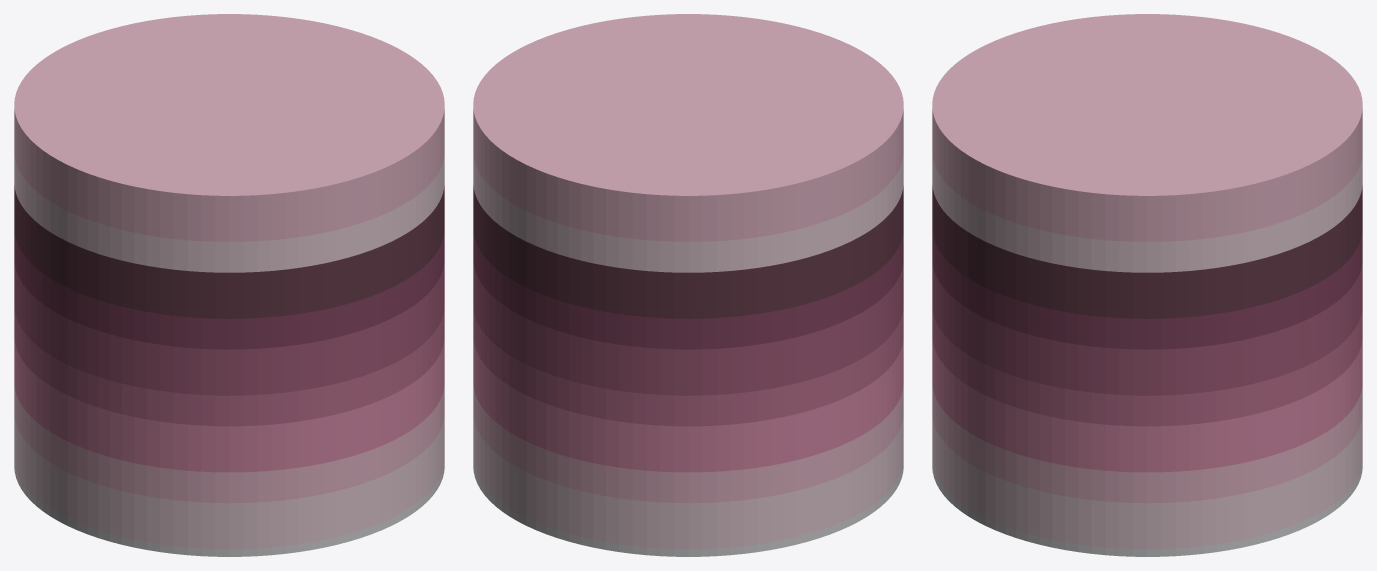
Rendered from cake_10in_layers5.glb.
The picture shows the model from 3 angles, left to right: view 1: azimuth 30°, elevation 25°; view 2: azimuth 150°, elevation 25°; view 3: azimuth 270°, elevation 25°; orthographic projection.
Parts seen in each view (by area): view 1: geometry_8, geometry_6, geometry_4, geometry_0, geometry_2, geometry_5, geometry_7, geometry_3, geometry_1, geometry_9; view 2: geometry_8, geometry_6, geometry_4, geometry_0, geometry_2, geometry_5, geometry_7, geometry_3, geometry_1, geometry_9; view 3: geometry_8, geometry_6, geometry_4, geometry_0, geometry_2, geometry_5, geometry_7, geometry_3, geometry_1, geometry_9.
Boxes of the visible parts, x1=… form: geometry_8: x1=14, y1=14, x2=444, y2=241; geometry_6: x1=14, y1=185, x2=444, y2=318; geometry_4: x1=14, y1=262, x2=444, y2=395; geometry_0: x1=14, y1=416, x2=444, y2=549; geometry_2: x1=14, y1=339, x2=444, y2=472; geometry_5: x1=14, y1=232, x2=444, y2=349; geometry_7: x1=14, y1=155, x2=444, y2=272; geometry_3: x1=14, y1=308, x2=444, y2=426; geometry_1: x1=14, y1=385, x2=444, y2=503; geometry_9: x1=14, y1=462, x2=444, y2=556; geometry_8: x1=473, y1=14, x2=903, y2=241; geometry_6: x1=473, y1=185, x2=903, y2=318; geometry_4: x1=473, y1=262, x2=903, y2=395; geometry_0: x1=473, y1=416, x2=903, y2=549; geometry_2: x1=473, y1=339, x2=903, y2=472; geometry_5: x1=473, y1=232, x2=903, y2=349; geometry_7: x1=473, y1=155, x2=903, y2=272; geometry_3: x1=473, y1=308, x2=903, y2=426; geometry_1: x1=473, y1=385, x2=903, y2=503; geometry_9: x1=473, y1=462, x2=903, y2=556; geometry_8: x1=932, y1=14, x2=1362, y2=241; geometry_6: x1=932, y1=185, x2=1362, y2=318; geometry_4: x1=932, y1=262, x2=1362, y2=395; geometry_0: x1=932, y1=416, x2=1362, y2=549; geometry_2: x1=932, y1=339, x2=1362, y2=472; geometry_5: x1=932, y1=232, x2=1362, y2=349; geometry_7: x1=932, y1=155, x2=1362, y2=272; geometry_3: x1=932, y1=308, x2=1362, y2=426; geometry_1: x1=932, y1=385, x2=1362, y2=503; geometry_9: x1=932, y1=462, x2=1362, y2=556.
Size of the model in its own units: 0.254 by 0.235 by 0.254.
